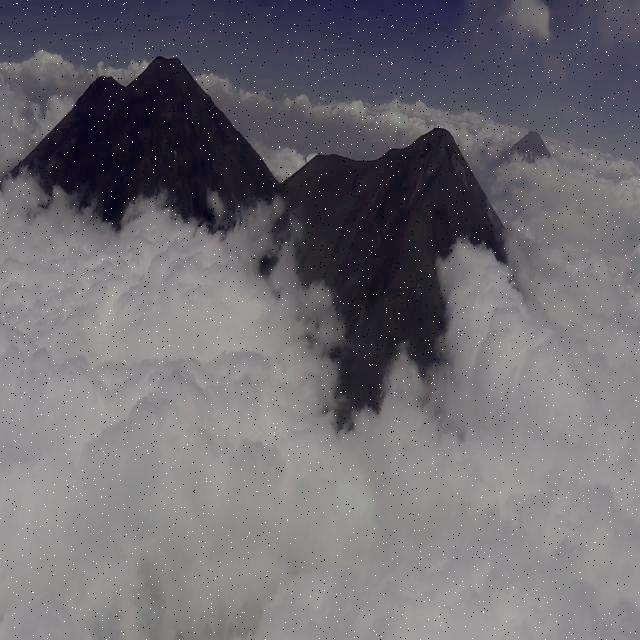Plume: (505, 2, 557, 40)
Summit: (370, 125, 490, 210)
